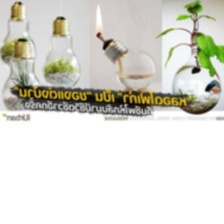light_bulb: (168, 43, 224, 119), (0, 34, 46, 115), (37, 15, 83, 93), (99, 38, 158, 93), (0, 4, 39, 72)
